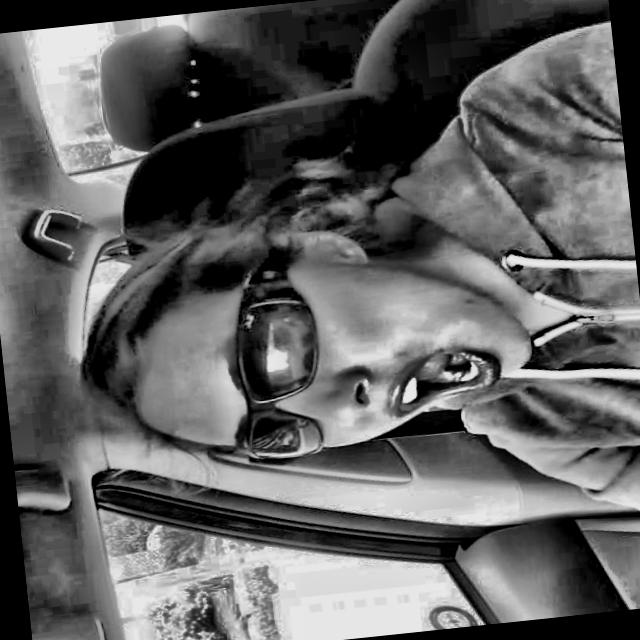open_mouth: (370, 332, 513, 430)
